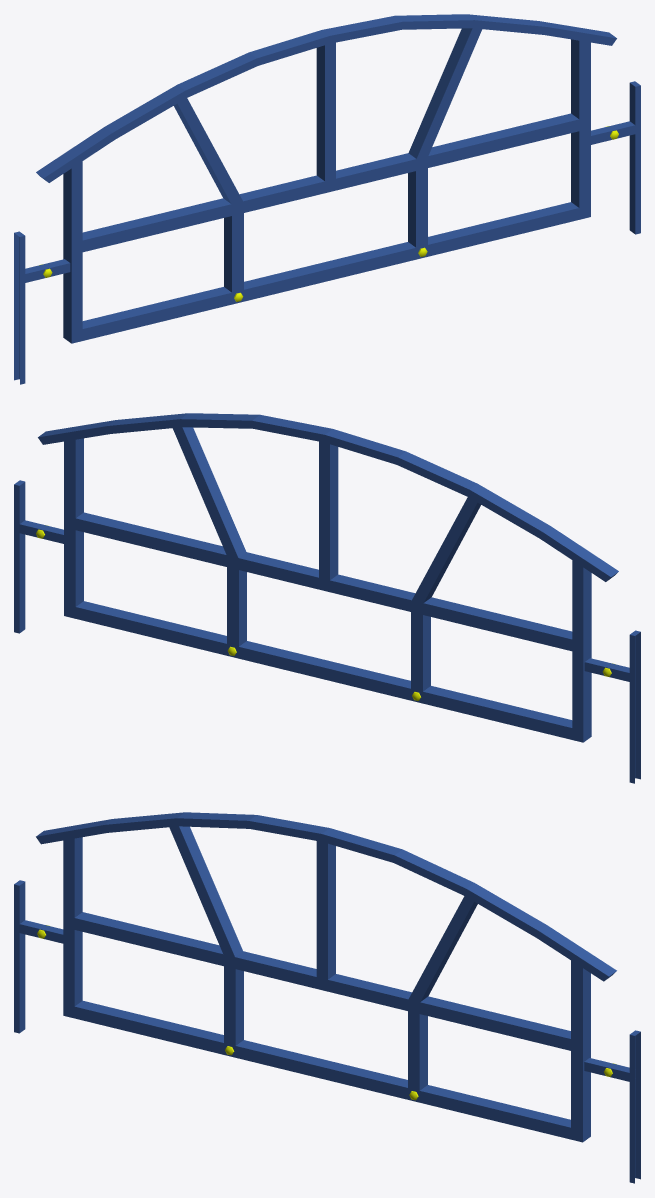
Rendered from Railings.obj.
The picture shows the model from 3 angles, top to bottom: view 1: azimuth 30°, elevation 25°; view 2: azimuth 150°, elevation 25°; view 3: azimuth 330°, elevation 25°; orthographic projection.
Parts seen in each view (by area): view 1: SM_Railings_220; view 2: SM_Railings_220; view 3: SM_Railings_220.
Part boxes in pixels (<box>): SM_Railings_220: <box>14,14,640,384</box>; SM_Railings_220: <box>14,413,640,783</box>; SM_Railings_220: <box>14,812,640,1183</box>.
Size of the model in its own units: 2.2 by 0.9287 by 0.0685.
